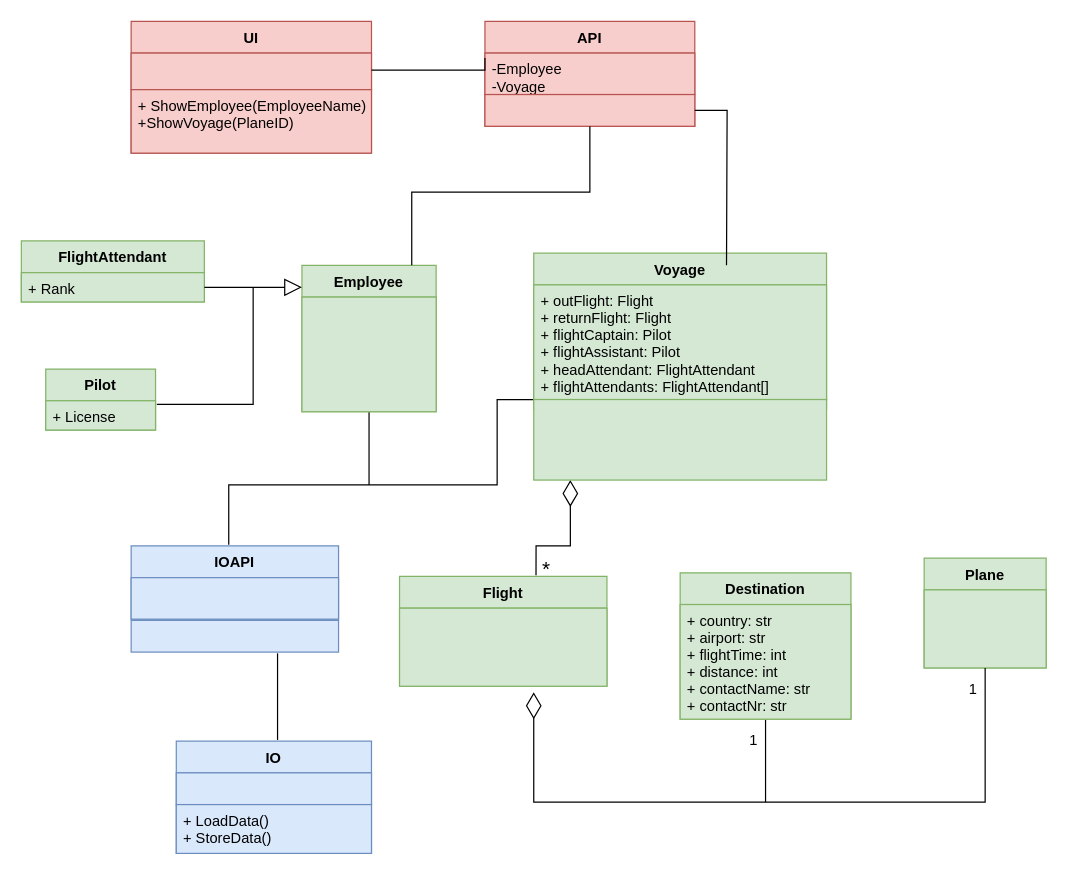
The diagram is 1068 pixels wide and 878 high, and some of its shapes have lost their labels. Each missing label, with the centre of its shape:
"+ emptySeats(): int + status(): str" belongs at point 680,439.
"+ id: str + type: str + maker: str + nrSeats: int" belongs at point 984,628.
"+ List of all exposed functions" belongs at point 234,635.
"+ name: str + ssn: str + address: str + landline: str + mobile: str + email: str" belongs at point 368,354.
"+ plane: Plane + destination: Destination + departure: date + flightNr: str" belongs at point 502,646.
"+List of all exposed functions" belongs at point 589,109.
"- Employee - Voyage" belongs at point 234,597.
"- IOAPI" belongs at point 273,788.
"-API" belongs at point 250,71.
